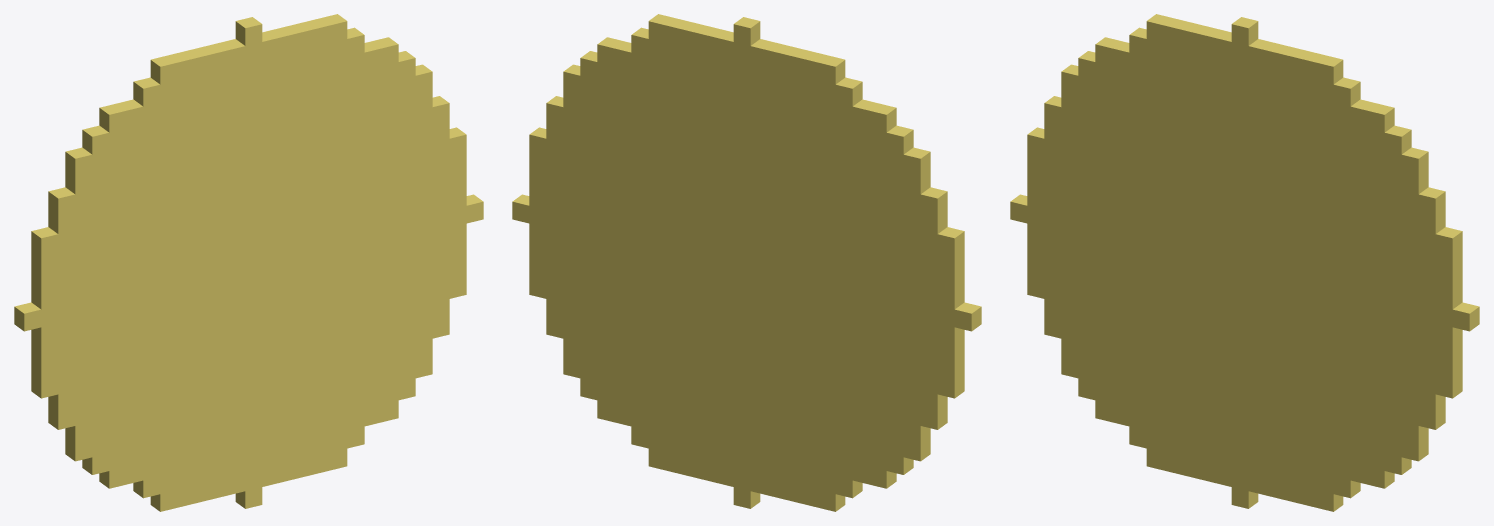
Rendered from lightspot.fbx.
3 renders of one model, left to right at view 1: azimuth 30°, elevation 25°; view 2: azimuth 150°, elevation 25°; view 3: azimuth 330°, elevation 25°, orthographic.
Parts seen in each view (by area): view 1: lightspot; view 2: lightspot; view 3: lightspot.
Part boxes in pixels (x1,y1,x2,y2): lightspot: [14, 14, 483, 511]; lightspot: [512, 14, 981, 511]; lightspot: [1010, 14, 1479, 511].
Size of the model in its own units: 2700 by 2700 by 100.
